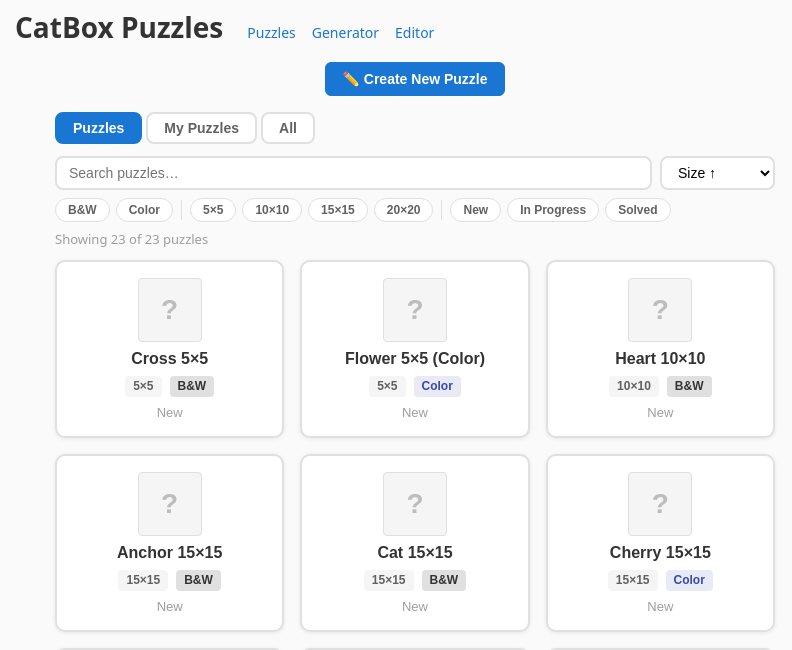
Test case: Navigation › header "Generator" link navigates to generator page
This screenshot has width=792, height=650.
Click the link "Generator" at (345, 32), box [312,23,379,42]
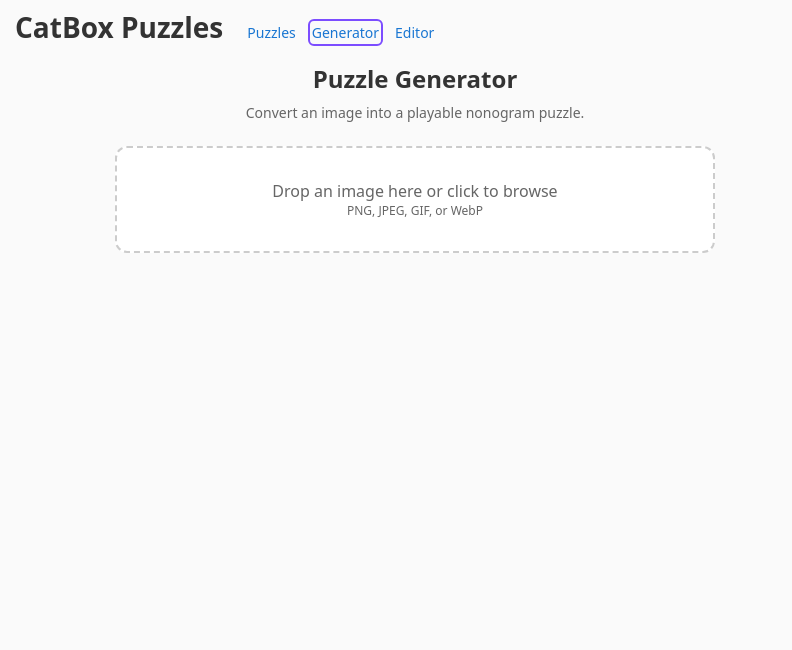
Expected: the heading "Puzzle Generator" is shown, [313,62,517,95]
